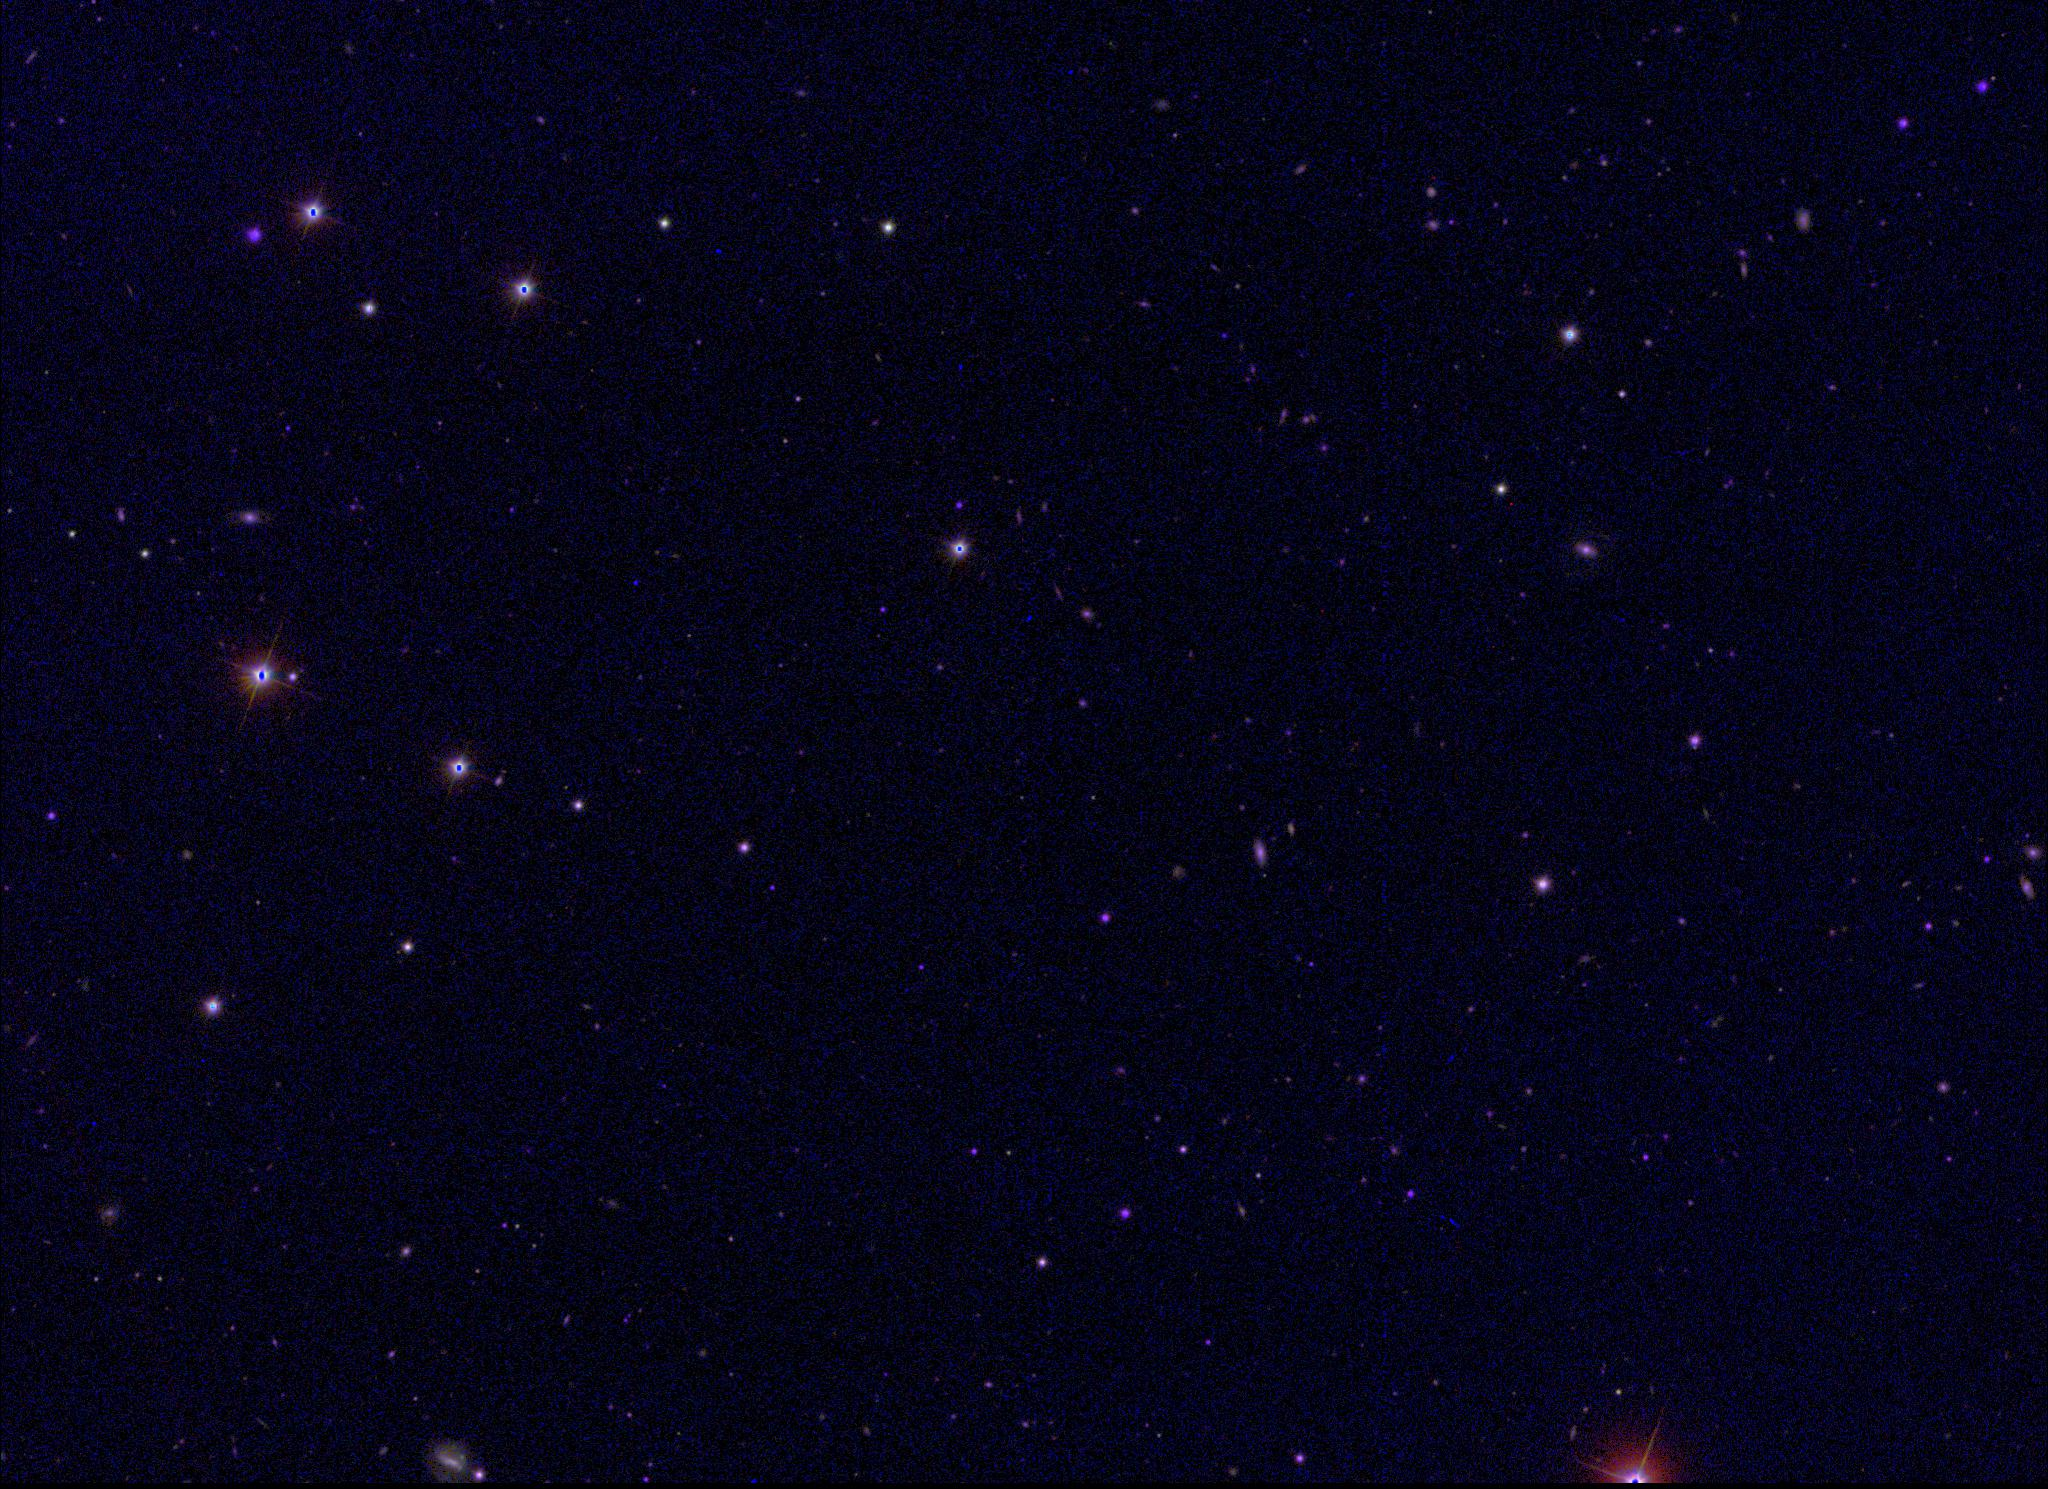L: (630, 576, 642, 590)
